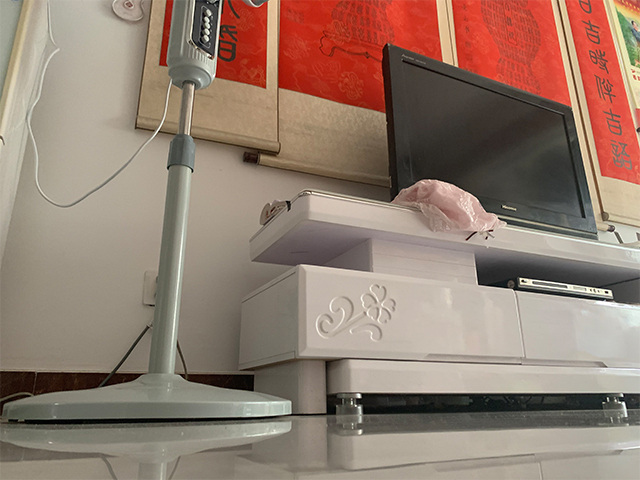curtain: (237, 187, 640, 418)
wire: (1, 316, 188, 405)
